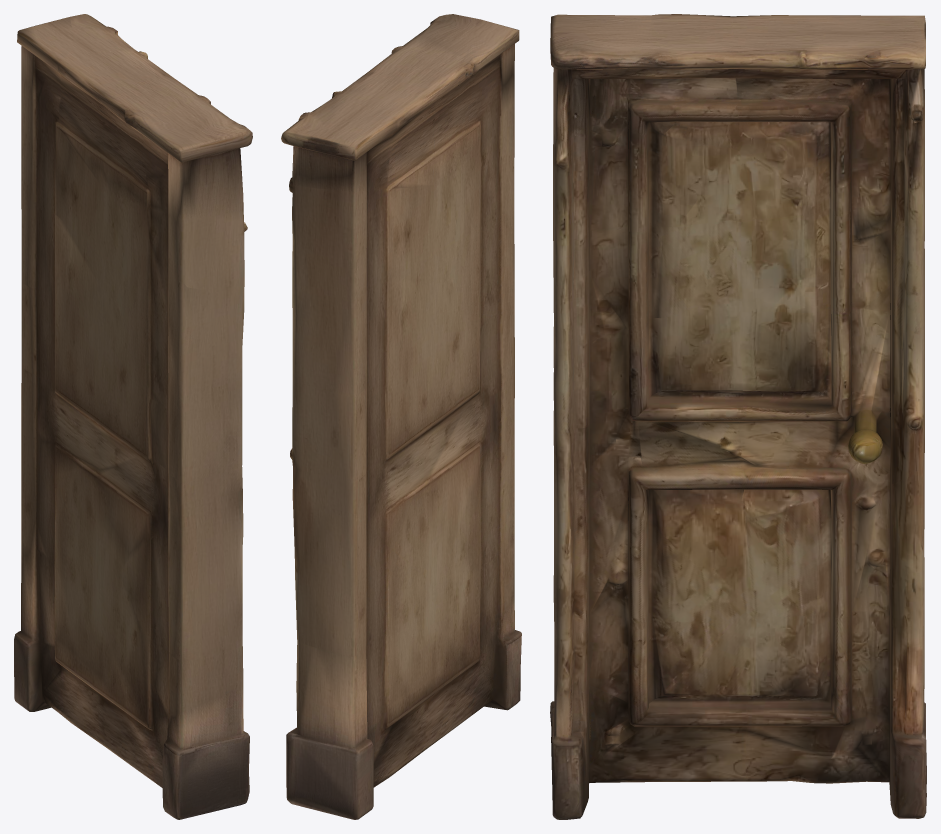
Rendered from door_record.glb.
The picture shows the model from 3 angles, left to right: view 1: azimuth 30°, elevation 25°; view 2: azimuth 150°, elevation 25°; view 3: azimuth 270°, elevation 25°; orthographic projection. The views are drawn at different scales.
Parts seen in each view (by area): view 1: tripo_node_bd106f85-58df-4503-b141-7edc2e29fd1e; view 2: tripo_node_bd106f85-58df-4503-b141-7edc2e29fd1e; view 3: tripo_node_bd106f85-58df-4503-b141-7edc2e29fd1e.
Boxes of the visible parts, box(x1,y1,x2,y2) form: tripo_node_bd106f85-58df-4503-b141-7edc2e29fd1e: box(14, 14, 252, 819); tripo_node_bd106f85-58df-4503-b141-7edc2e29fd1e: box(281, 14, 521, 819); tripo_node_bd106f85-58df-4503-b141-7edc2e29fd1e: box(550, 14, 926, 819).
Bounding box in the file's own units: 0.1435 × 0.9995 × 0.4431.
Materials: 1 (1 with a texture image).
